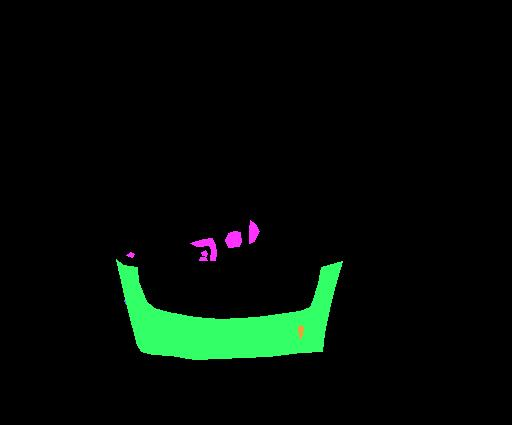Broken part: (116, 259, 342, 359)
Dent: (190, 238, 216, 260), (225, 231, 241, 247), (249, 220, 259, 243), (126, 252, 134, 257), (201, 250, 207, 256), (199, 257, 207, 260)
Paint chip: (298, 325, 303, 338), (128, 304, 133, 316), (133, 323, 137, 337)
Scratch: (124, 300, 147, 305)
